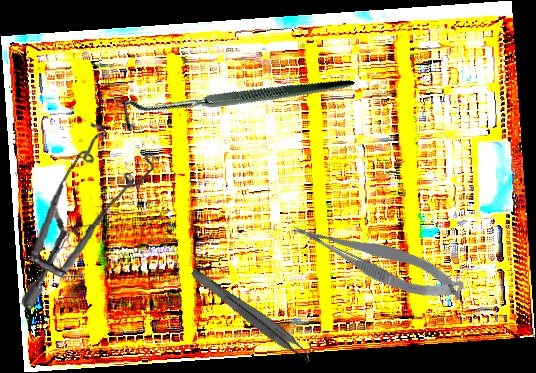Hook Surgical: (116, 8, 355, 200)
Micro Scissor: (287, 200, 469, 318)
Speculum: (20, 116, 163, 320)
Tissue Forceps: (184, 266, 318, 368)
